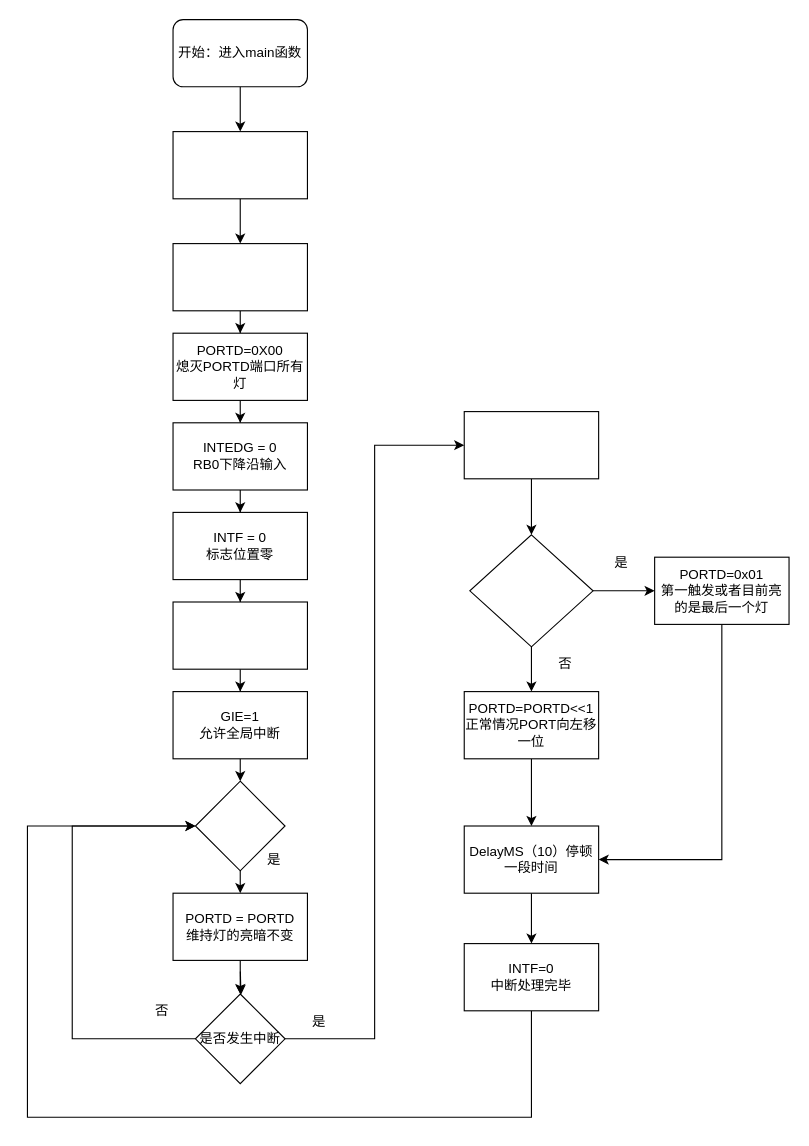
Some shapes in this 809 by 1146 pixel diagram are drawn without their labels. Here are the shapes that lost their labels. From the top down, the box of each, then its label:
(172, 130, 307, 199): TRISBO=1 配置RB0引脚为输入模式
(172, 242, 307, 311): TRISD = 0x00 设置PORTD为输出
(463, 410, 599, 479): 进入中断处理程序
(469, 534, 593, 647): 如果PORTD=080或0x00
(172, 601, 307, 669): INTE = 1 允许INT外部引脚中断
(194, 780, 285, 871): while（1）
